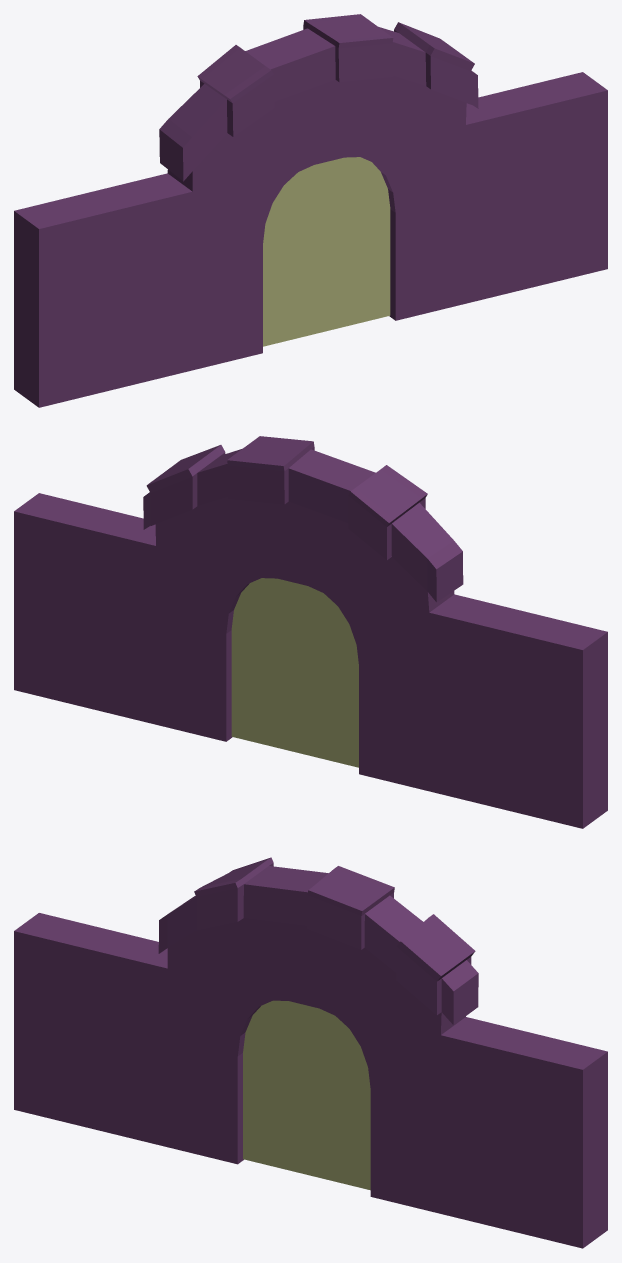
File: puerta.fbx
3 renders of one model, top to bottom at view 1: azimuth 30°, elevation 25°; view 2: azimuth 150°, elevation 25°; view 3: azimuth 330°, elevation 25°, orthographic.
Parts seen in each view (by area): view 1: Cubo, Cubo.001; view 2: Cubo, Cubo.001; view 3: Cubo, Cubo.001.
Boxes of the visible parts, bbox=[...] form: Cubo: bbox=[14, 14, 607, 407]; Cubo.001: bbox=[263, 157, 390, 346]; Cubo: bbox=[14, 436, 607, 828]; Cubo.001: bbox=[231, 578, 358, 767]; Cubo: bbox=[14, 857, 607, 1248]; Cubo.001: bbox=[243, 1000, 370, 1190].
Bounding box in the file's own units: 857 × 424 × 94.59.
